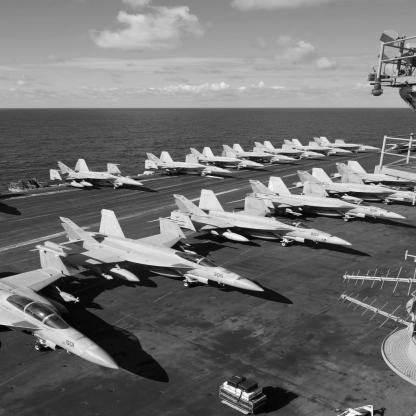F18: (29, 210, 266, 293), (1, 246, 121, 371), (147, 190, 354, 248), (226, 177, 408, 223), (289, 169, 416, 207), (43, 160, 145, 191), (330, 161, 416, 194), (134, 152, 234, 178), (179, 148, 266, 171), (218, 145, 299, 166), (255, 142, 328, 161), (284, 140, 354, 157), (311, 138, 383, 154), (387, 138, 416, 154)
